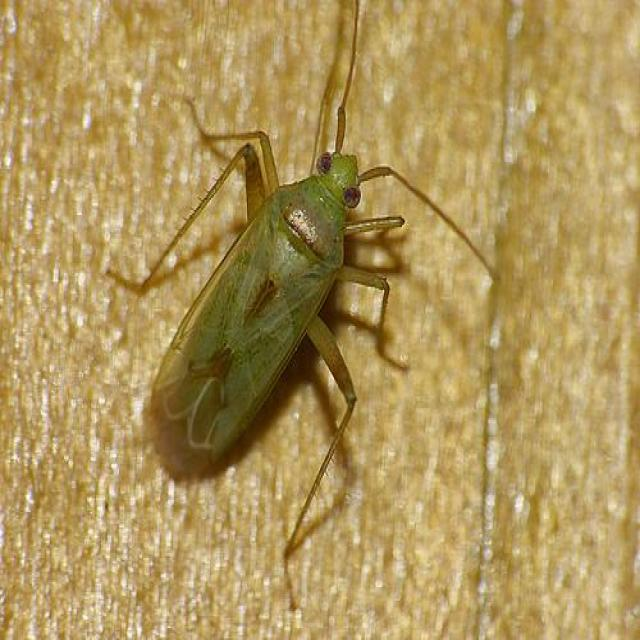Miridae-Adult-: (109, 16, 472, 507)
